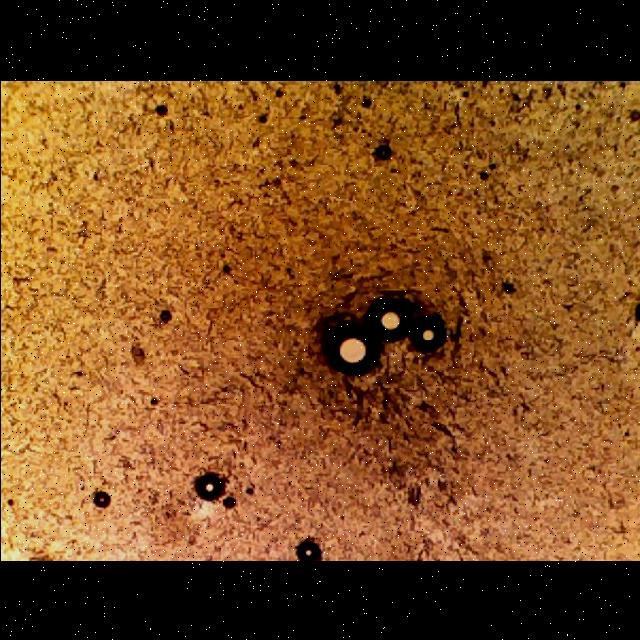microbeads: (320, 320, 380, 378), (364, 291, 414, 349), (408, 310, 456, 370), (189, 470, 225, 502), (292, 538, 322, 560), (90, 489, 112, 507), (630, 294, 640, 328)
